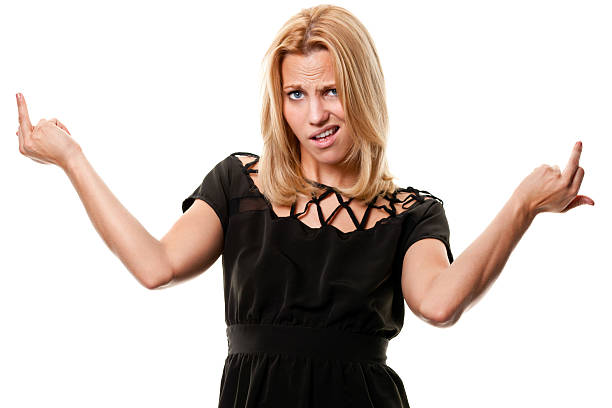insulting_gesture: (517, 140, 599, 217), (15, 88, 77, 173)
